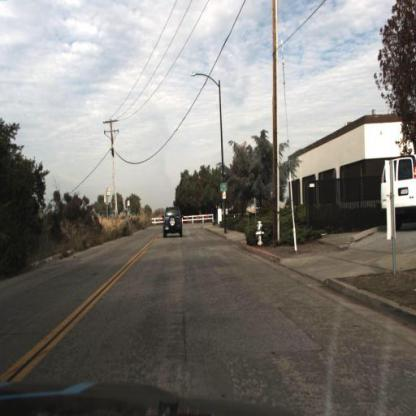car: (381, 156, 416, 231), (163, 204, 186, 239)
